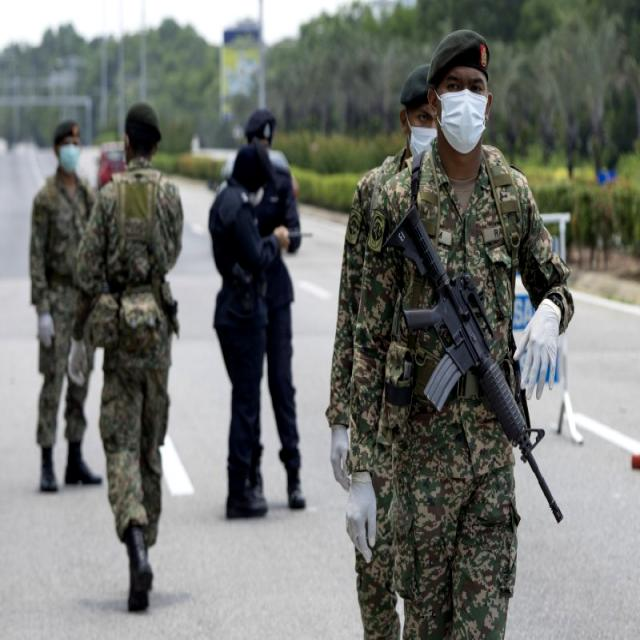m16: (375, 180, 594, 557)
